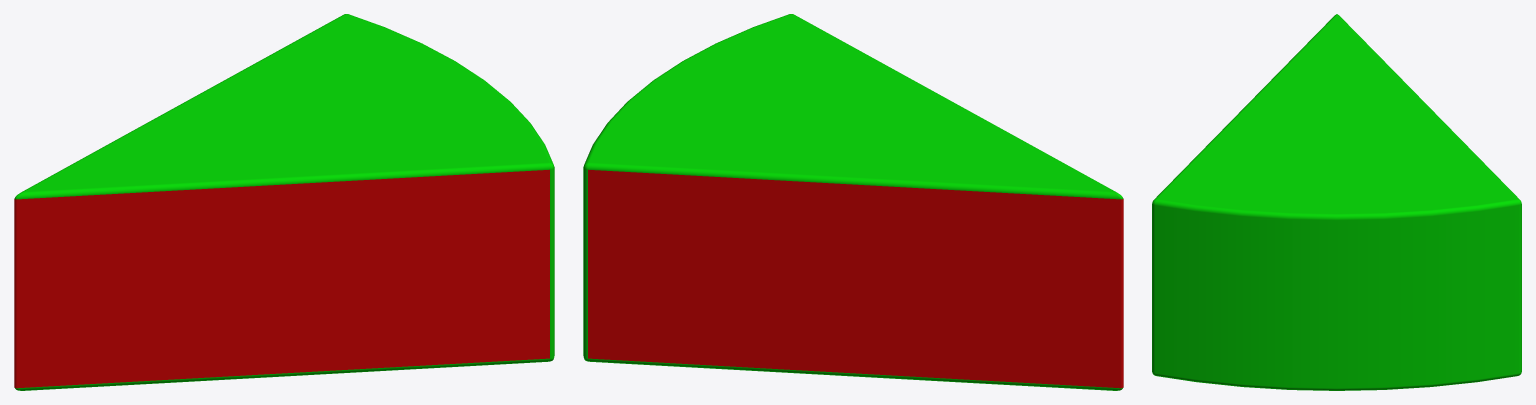
File: CakePiece.glb
3 views of the same model, side by side, from view 1: azimuth 30°, elevation 25°; view 2: azimuth 150°, elevation 25°; view 3: azimuth 270°, elevation 25° (orthographic). The views are drawn at different scales.
Parts seen in each view (by area): view 1: CakeModel; view 2: CakeModel; view 3: CakeModel.
Part boxes in pixels (x1,y1,x2,y2): CakeModel: (14, 14, 554, 390); CakeModel: (583, 14, 1123, 390); CakeModel: (1152, 14, 1521, 390).
Bounding box in the file's own units: 9.94 × 4 × 7.59.
